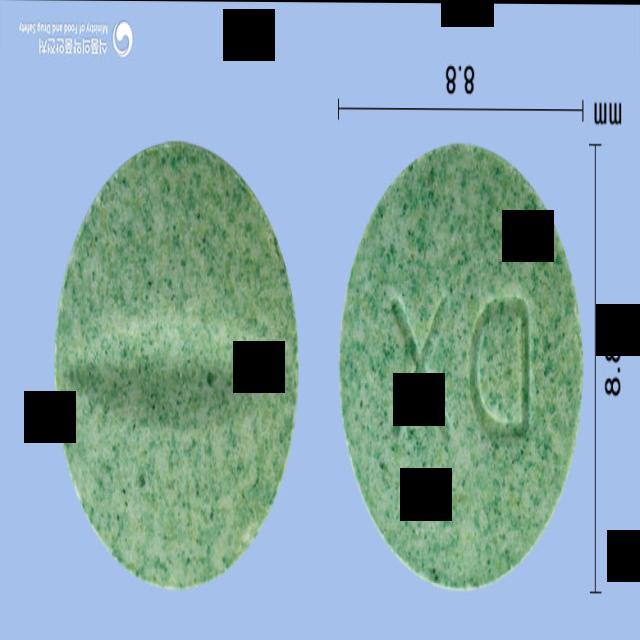Doxymycin N: (54, 145, 300, 592), (338, 142, 582, 592)
